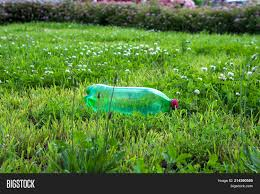plastic_bottle: (84, 83, 178, 118)
